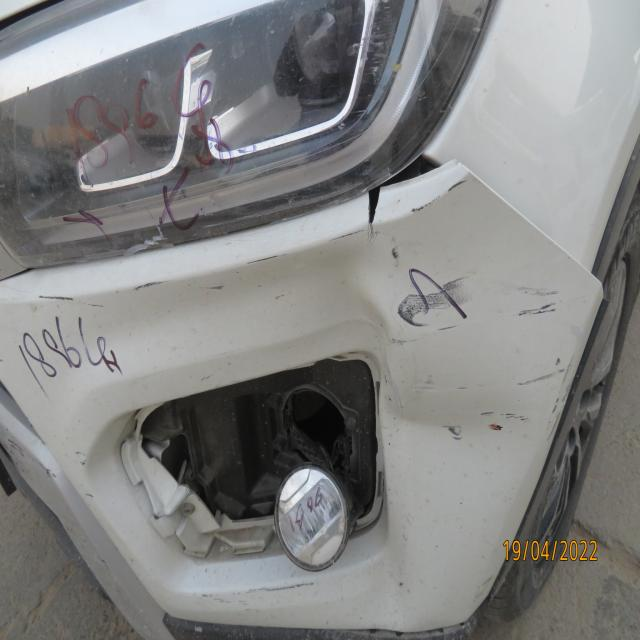damage: (106, 347, 425, 567), (415, 107, 595, 327), (437, 349, 578, 475), (32, 270, 238, 319), (196, 567, 329, 615), (355, 180, 383, 234)
